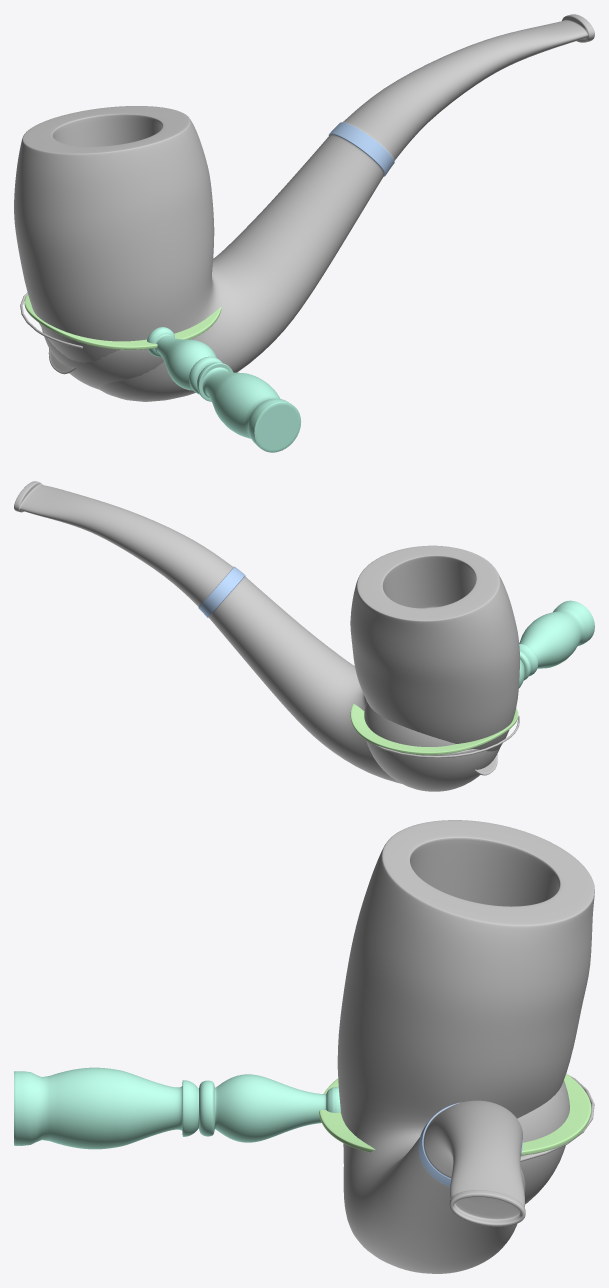
Rendered from flux.gltf.
3 renders of one model, top to bottom at view 1: azimuth 30°, elevation 25°; view 2: azimuth 150°, elevation 25°; view 3: azimuth 270°, elevation 25°, orthographic. The views are drawn at different scales.
Visible parts, largest first — view 1: pipas, balustre, grelot, Cylinder002; view 2: pipas, grelot, balustre, Cylinder002, Circle009; view 3: pipas, balustre, Cylinder002, grelot.
Part boxes in pixels (bbox=[...]): pipas: bbox=[14, 14, 594, 401]; balustre: bbox=[147, 327, 301, 452]; grelot: bbox=[41, 328, 164, 389]; Cylinder002: bbox=[24, 294, 221, 349]; pipas: bbox=[14, 481, 519, 783]; grelot: bbox=[364, 702, 499, 791]; balustre: bbox=[519, 600, 594, 687]; Cylinder002: bbox=[350, 704, 518, 754]; Circle009: bbox=[360, 715, 519, 758]; pipas: bbox=[337, 820, 594, 1273]; balustre: bbox=[14, 1067, 340, 1149]; Cylinder002: bbox=[319, 1074, 591, 1155]; grelot: bbox=[340, 1080, 569, 1204].
Size of what is drawn, in the model's own units: 1.07 by 0.4807 by 0.6885.
